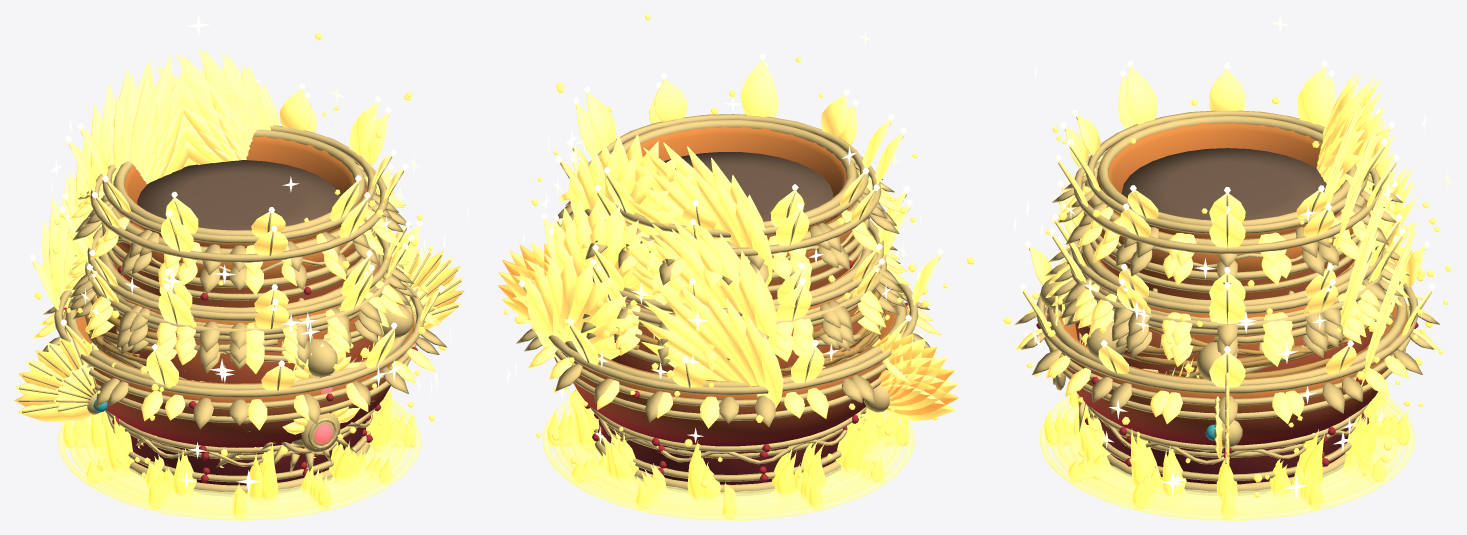
File: chau-phuong-hoang.glb
The picture shows the model from 3 angles, left to right: view 1: azimuth 30°, elevation 25°; view 2: azimuth 150°, elevation 25°; view 3: azimuth 270°, elevation 25°; orthographic projection. The views are drawn at different scales.
Parts seen in each view (by area): view 1: ChauPH_1_Lv6, ChauPH_2_Than, ChauPH_5_Lv6, ChauPH_2_Lv6, ChauPH_4_Lv6, ChauPH_6_Lv6, ChauPH_1_Dat, ChauPH_3_Lv6, ChauPH_4_Than, ChauPH_1_Than, ChauPH_2_Lv5, ChauPH_6_Than (+17 smaller); view 2: ChauPH_2_Lv6, ChauPH_2_Than, ChauPH_5_Lv6, ChauPH_3_Lv6, ChauPH_1_Lv6, ChauPH_6_Lv6, ChauPH_4_Lv6, ChauPH_1_Than, ChauPH_1_Dat, ChauPH_2_Lv5, ChauPH_5_Than, ChauPH_2_Lv3 (+17 smaller); view 3: ChauPH_5_Lv6, ChauPH_1_Lv6, ChauPH_2_Than, ChauPH_2_Lv6, ChauPH_4_Lv6, ChauPH_6_Lv6, ChauPH_1_Dat, ChauPH_3_Lv6, ChauPH_1_Than, ChauPH_4_Than, ChauPH_6_Than, ChauPH_2_Lv5 (+18 smaller).
Part boxes in pixels (x1=…): ChauPH_1_Lv6: x1=52, y1=33, x2=420, y2=499; ChauPH_2_Than: x1=14, y1=249, x2=464, y2=447; ChauPH_5_Lv6: x1=54, y1=177, x2=421, y2=520; ChauPH_2_Lv6: x1=30, y1=158, x2=469, y2=500; ChauPH_4_Lv6: x1=51, y1=70, x2=411, y2=512; ChauPH_6_Lv6: x1=57, y1=15, x2=446, y2=493; ChauPH_1_Dat: x1=137, y1=160, x2=340, y2=230; ChauPH_3_Lv6: x1=66, y1=178, x2=432, y2=515; ChauPH_4_Than: x1=96, y1=253, x2=412, y2=467; ChauPH_1_Than: x1=109, y1=129, x2=365, y2=364; ChauPH_2_Lv5: x1=32, y1=214, x2=446, y2=477; ChauPH_6_Than: x1=101, y1=169, x2=376, y2=307; ChauPH_2_Lv6: x1=503, y1=140, x2=974, y2=500; ChauPH_2_Than: x1=498, y1=242, x2=958, y2=446; ChauPH_5_Lv6: x1=515, y1=97, x2=920, y2=520; ChauPH_3_Lv6: x1=521, y1=153, x2=928, y2=516; ChauPH_1_Lv6: x1=537, y1=14, x2=894, y2=502; ChauPH_6_Lv6: x1=555, y1=30, x2=906, y2=493; ChauPH_4_Lv6: x1=523, y1=150, x2=923, y2=512; ChauPH_1_Than: x1=610, y1=120, x2=861, y2=350; ChauPH_1_Dat: x1=664, y1=152, x2=833, y2=221; ChauPH_2_Lv5: x1=514, y1=189, x2=947, y2=451; ChauPH_5_Than: x1=595, y1=251, x2=872, y2=493; ChauPH_2_Lv3: x1=524, y1=290, x2=932, y2=452; ChauPH_5_Lv6: x1=1013, y1=136, x2=1439, y2=520; ChauPH_1_Lv6: x1=1052, y1=15, x2=1387, y2=499; ChauPH_2_Than: x1=1047, y1=296, x2=1407, y2=467; ChauPH_2_Lv6: x1=1003, y1=166, x2=1451, y2=499; ChauPH_4_Lv6: x1=1031, y1=121, x2=1402, y2=512; ChauPH_6_Lv6: x1=1034, y1=64, x2=1436, y2=493; ChauPH_1_Dat: x1=1121, y1=148, x2=1326, y2=220; ChauPH_3_Lv6: x1=1046, y1=99, x2=1410, y2=515; ChauPH_1_Than: x1=1093, y1=116, x2=1356, y2=273; ChauPH_4_Than: x1=1040, y1=243, x2=1374, y2=412; ChauPH_6_Than: x1=1085, y1=161, x2=1370, y2=300; ChauPH_2_Lv5: x1=1015, y1=274, x2=1447, y2=475.
Bounding box in the file's own units: 1.73 × 1.32 × 1.44.
